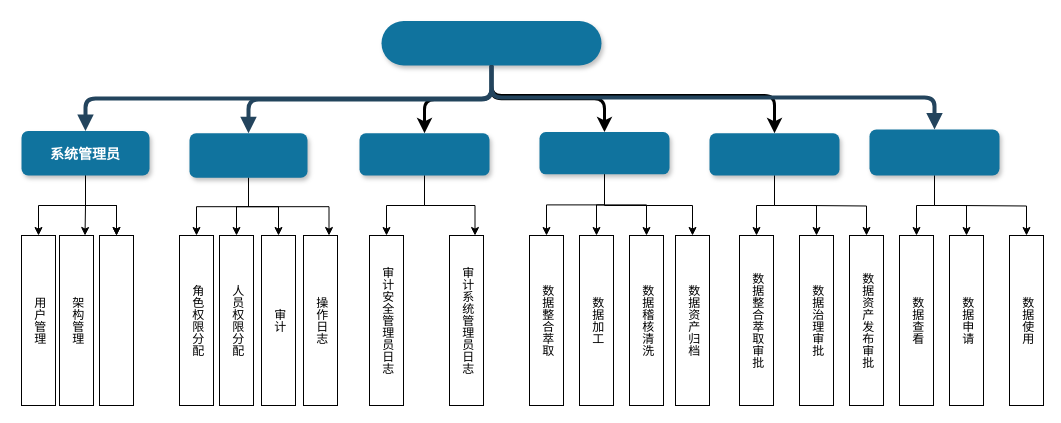
This 1061x423 diagram has some shape labels left out. Each missing label, with the centre of its shape:
"安全管理员" belongs at (x=249, y=156).
"审计管理员" belongs at (x=425, y=155).
"数据底座" belongs at (x=492, y=44).
"数据监管人员" belongs at (x=775, y=155).
"数据运维人员" belongs at (x=605, y=154).
"系统参数设置" belongs at (x=116, y=320).
"系统外部人员" belongs at (x=935, y=153).
